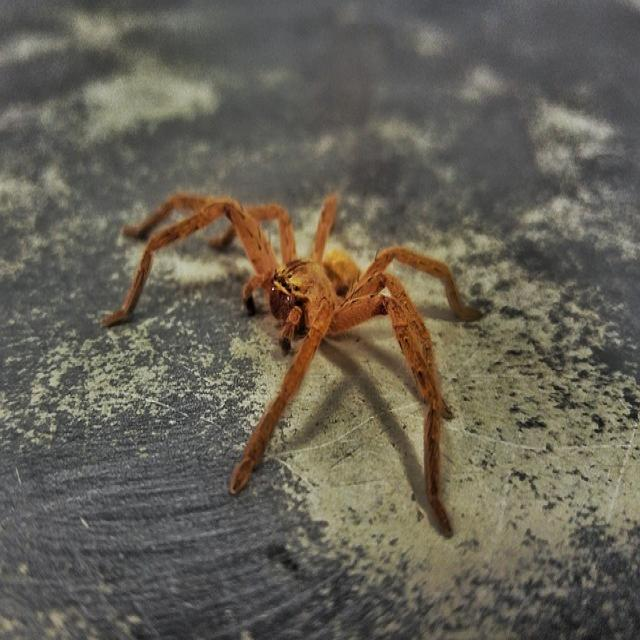spyder: (118, 194, 484, 537)
